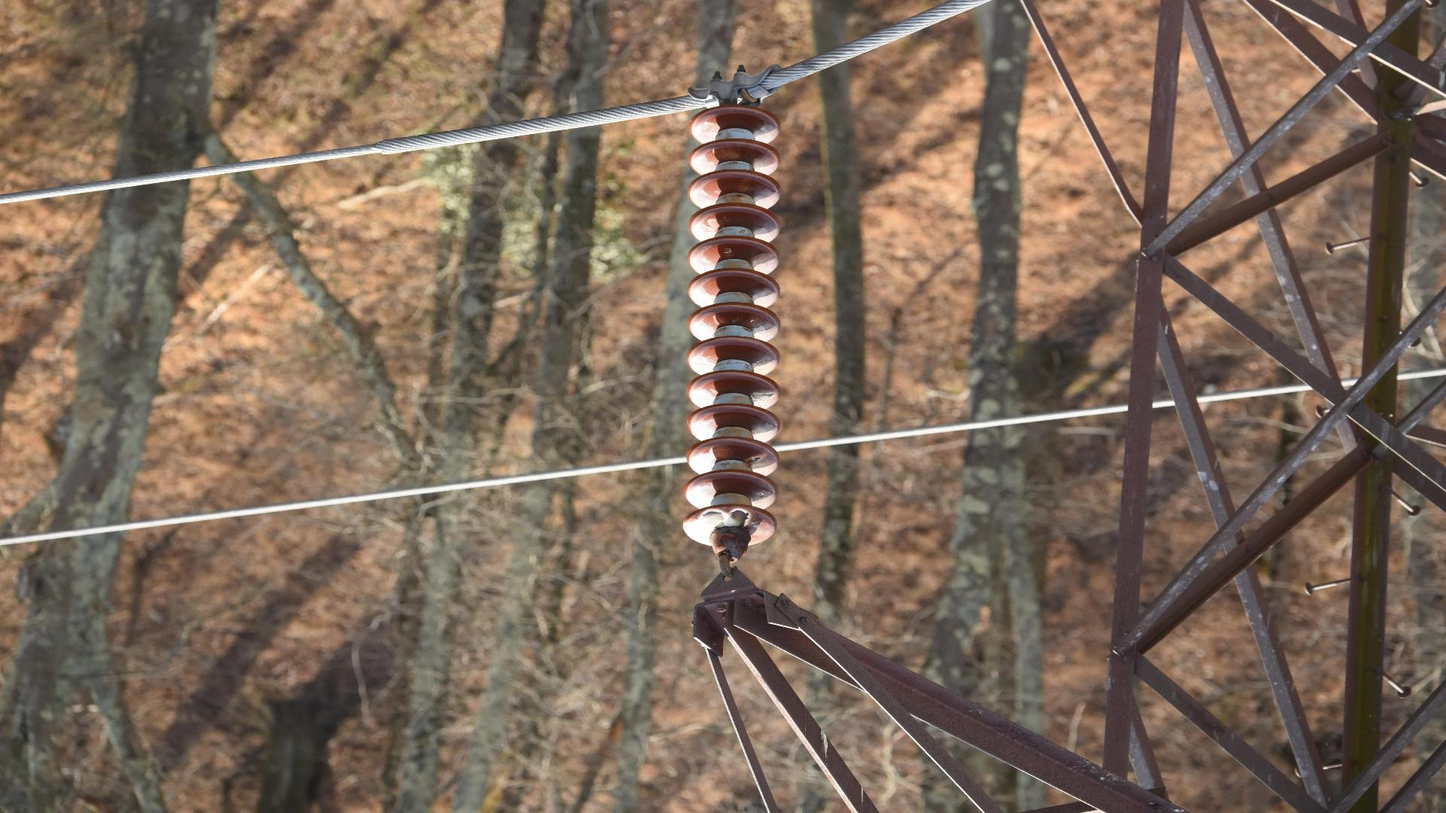insulator: (676, 101, 788, 553)
insulator_flashover: (700, 506, 753, 533), (749, 388, 777, 403), (743, 452, 767, 466)
